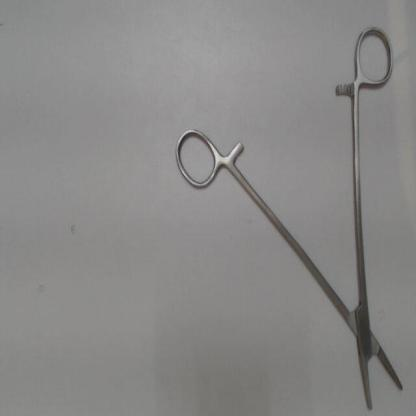8 Mayo Needle Holder: (168, 18, 412, 415)
